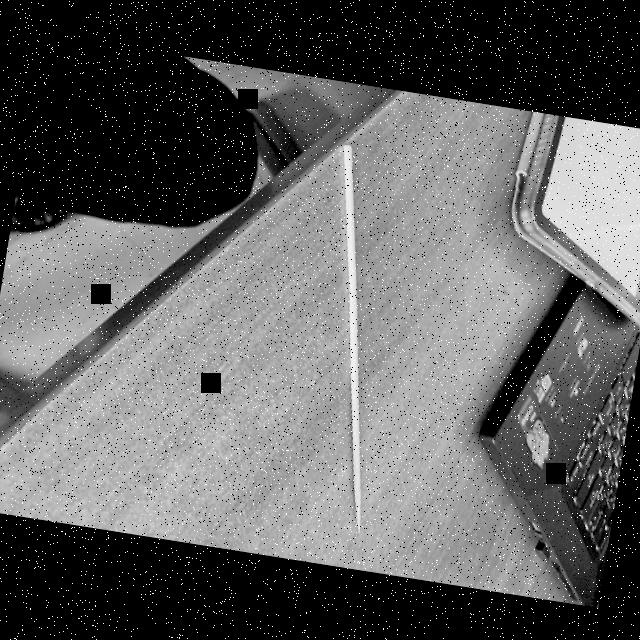stick: (256, 132, 436, 542)
